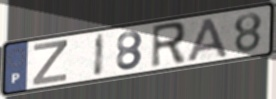8: (231, 10, 264, 55), (115, 30, 144, 71)
A: (185, 16, 231, 63)
I: (92, 32, 107, 78)
R: (149, 20, 187, 71)
Z: (31, 38, 69, 87)
